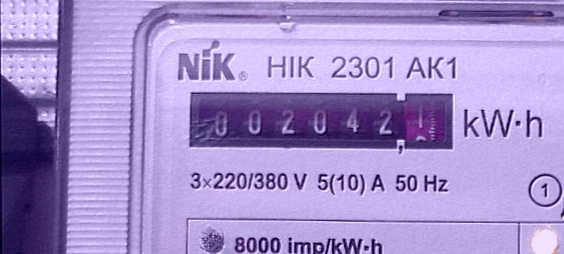0: (211, 107, 230, 137), (310, 105, 329, 135), (245, 105, 263, 136)
1: (412, 99, 427, 130)
2: (278, 106, 297, 135), (376, 106, 394, 135)
4: (343, 103, 362, 135)
screen: (184, 85, 459, 159)
